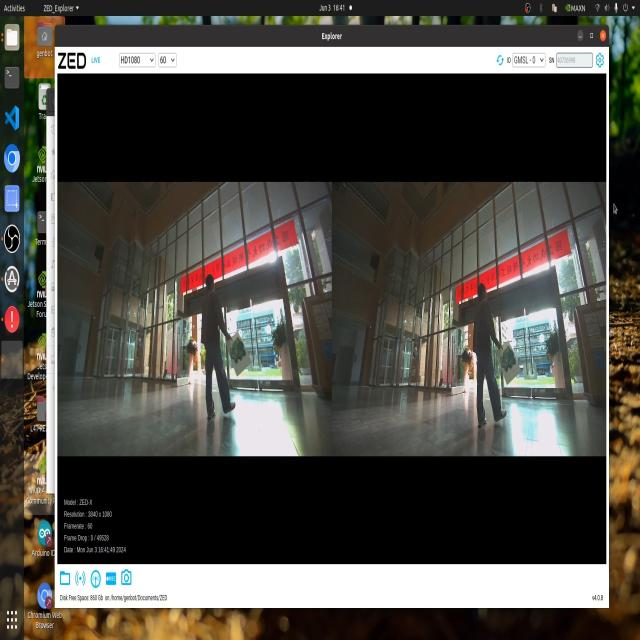green: (493, 338, 523, 389), (227, 336, 250, 368)
